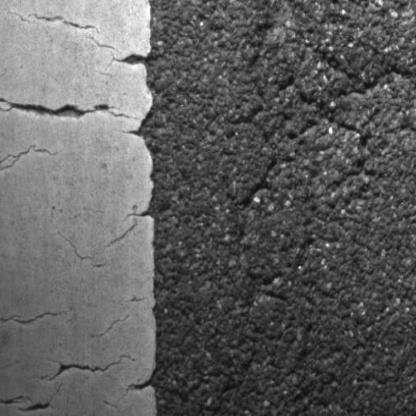Cracks: (243, 0, 284, 210), (330, 62, 416, 105), (412, 142, 416, 173)
